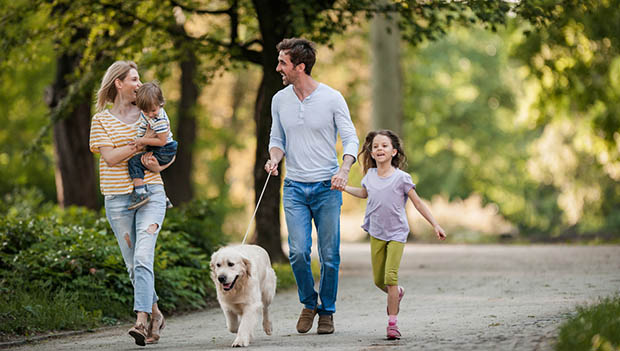Person: (75, 52, 190, 347), (328, 127, 467, 351), (258, 31, 358, 335)
